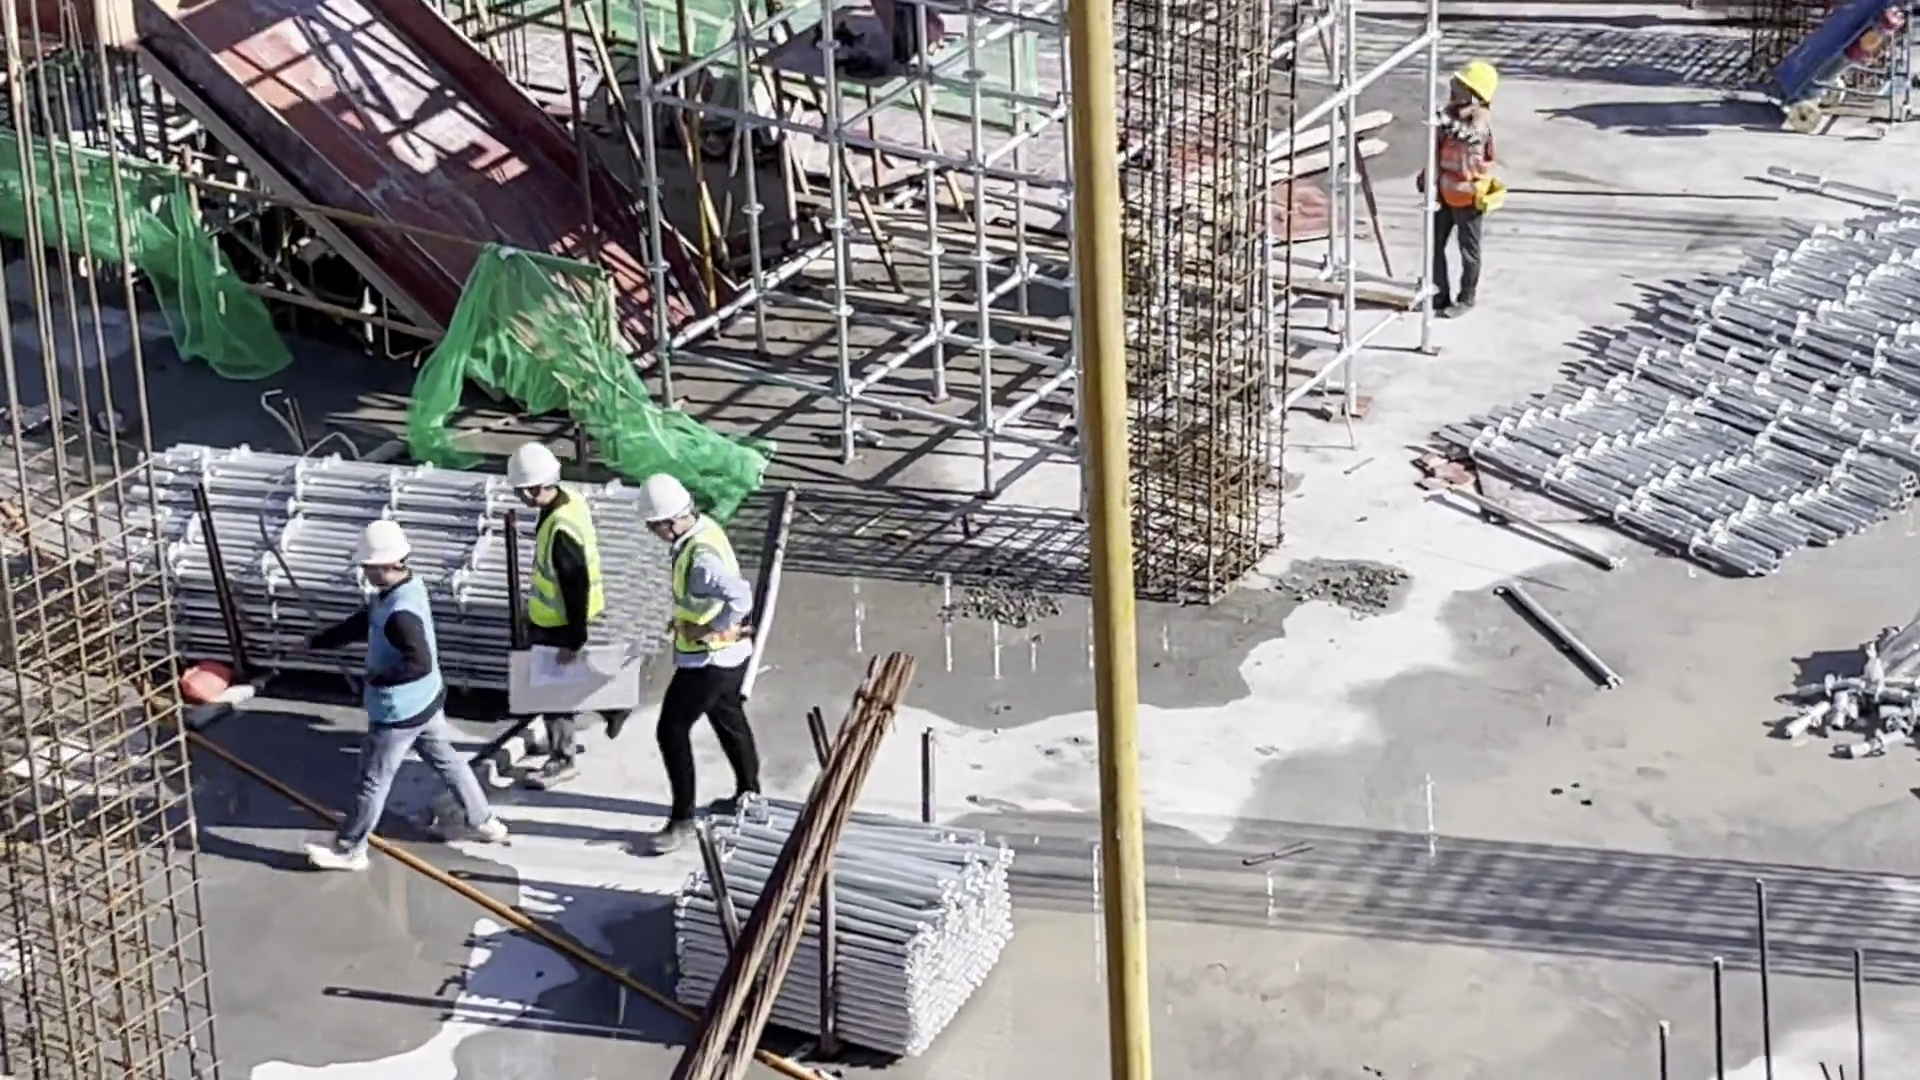helmet: (502, 442, 560, 488), (353, 520, 411, 564), (638, 473, 691, 521), (1455, 61, 1498, 102)
person: (286, 516, 515, 875), (636, 469, 767, 852), (497, 439, 610, 782), (1412, 60, 1503, 322)
scaffold: (683, 792, 1011, 1060), (165, 437, 356, 683)
vest: (365, 575, 445, 726), (668, 515, 752, 654), (528, 491, 603, 628), (1439, 114, 1494, 208)
